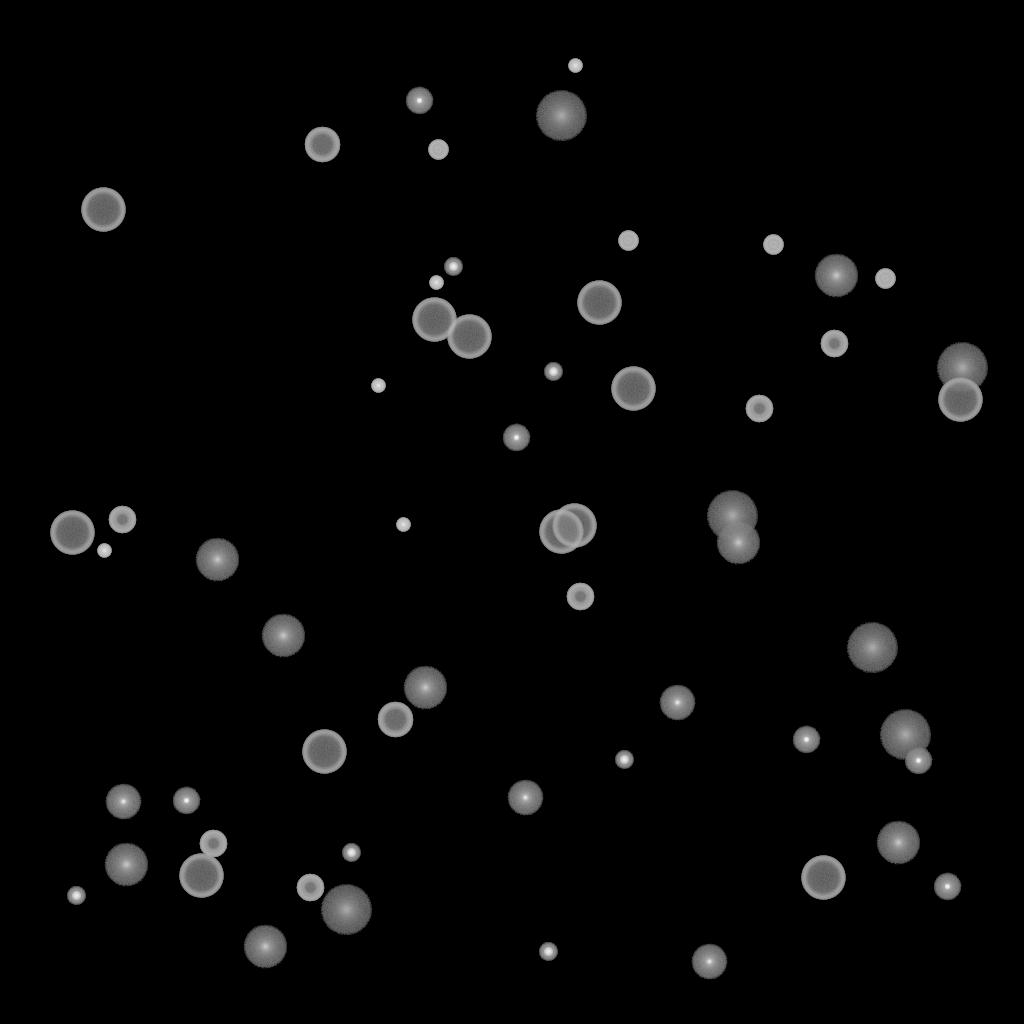depth:-10: (405, 87, 433, 115), (904, 747, 932, 775), (502, 424, 530, 452), (933, 873, 961, 901), (172, 787, 200, 815), (792, 726, 820, 754)
depth:-20: (615, 751, 633, 769), (539, 943, 557, 961), (342, 844, 360, 862), (544, 363, 562, 381), (444, 258, 462, 276), (67, 887, 85, 905)
depth:-30: (371, 379, 385, 393), (429, 276, 443, 290), (396, 518, 410, 532), (97, 544, 111, 558), (568, 59, 582, 73)
depth:-40: (618, 231, 638, 251), (428, 140, 448, 160), (875, 269, 895, 289), (763, 235, 783, 255)
depth:-50: (296, 874, 324, 902), (199, 830, 227, 858), (108, 506, 136, 534), (745, 395, 773, 423), (566, 583, 594, 611), (820, 330, 848, 358)
depth:-60: (304, 127, 340, 163), (377, 702, 413, 738)
depth:-70: (611, 367, 655, 411), (179, 854, 223, 898), (412, 298, 456, 342), (447, 315, 491, 359), (81, 188, 125, 232), (539, 510, 583, 554), (552, 504, 596, 548), (50, 511, 94, 555), (302, 730, 346, 774), (938, 378, 982, 422), (577, 281, 621, 325), (801, 856, 845, 900)
depth:0: (691, 944, 727, 980), (507, 780, 543, 816), (659, 685, 695, 721), (105, 784, 141, 820)
depth:10: (716, 521, 760, 565), (243, 925, 287, 969), (814, 254, 858, 298), (403, 666, 447, 710), (876, 821, 920, 865), (261, 614, 305, 658), (195, 538, 239, 582), (104, 843, 148, 887)
depth:20: (846, 623, 898, 673), (879, 710, 931, 760), (320, 885, 372, 935), (535, 91, 587, 141), (936, 343, 988, 393), (706, 491, 758, 541)
